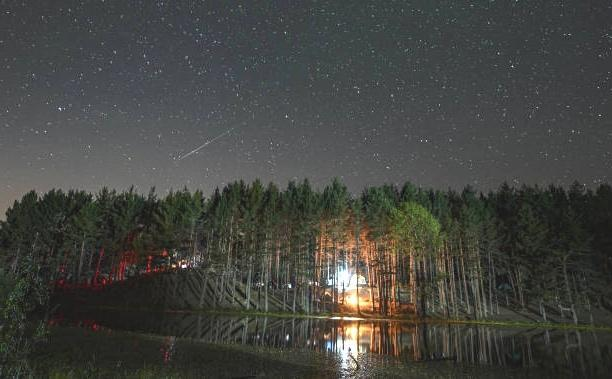meteorite: (164, 128, 235, 162)
